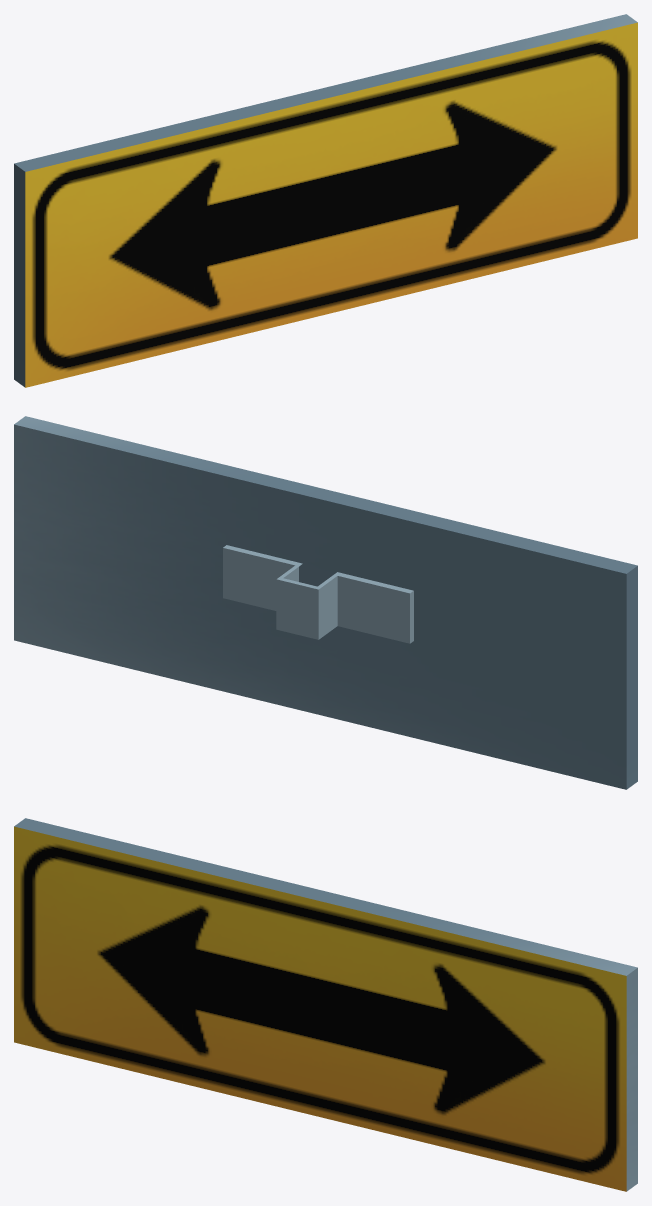
File: Sign57.fbx
3 renders of one model, top to bottom at view 1: azimuth 30°, elevation 25°; view 2: azimuth 150°, elevation 25°; view 3: azimuth 330°, elevation 25°, orthographic.
Parts seen in each view (by area): view 1: Sign57; view 2: Sign57; view 3: Sign57.
Boxes of the visible parts, x1,y1,x2,y2 form: Sign57: [14, 14, 637, 387]; Sign57: [14, 416, 637, 789]; Sign57: [14, 818, 637, 1191].
Size of the model in its own units: 1.54 by 0.1489 by 0.5195.
